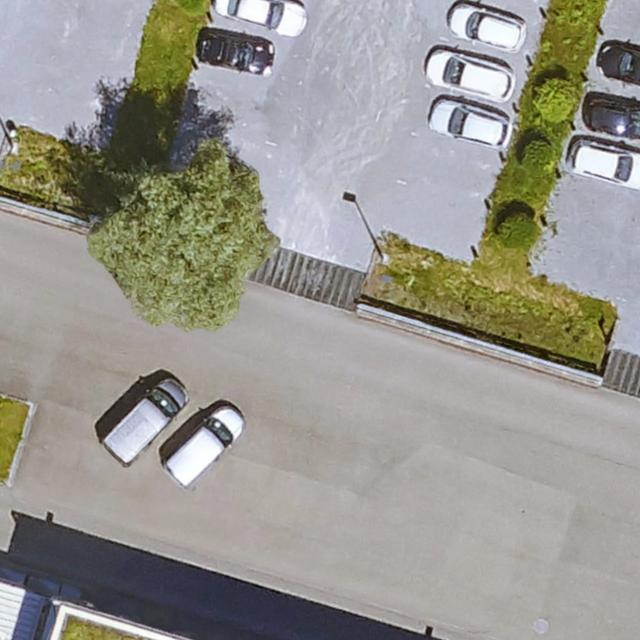tree: (87, 147, 281, 327), (526, 77, 579, 132), (496, 212, 539, 248), (521, 138, 554, 168)
